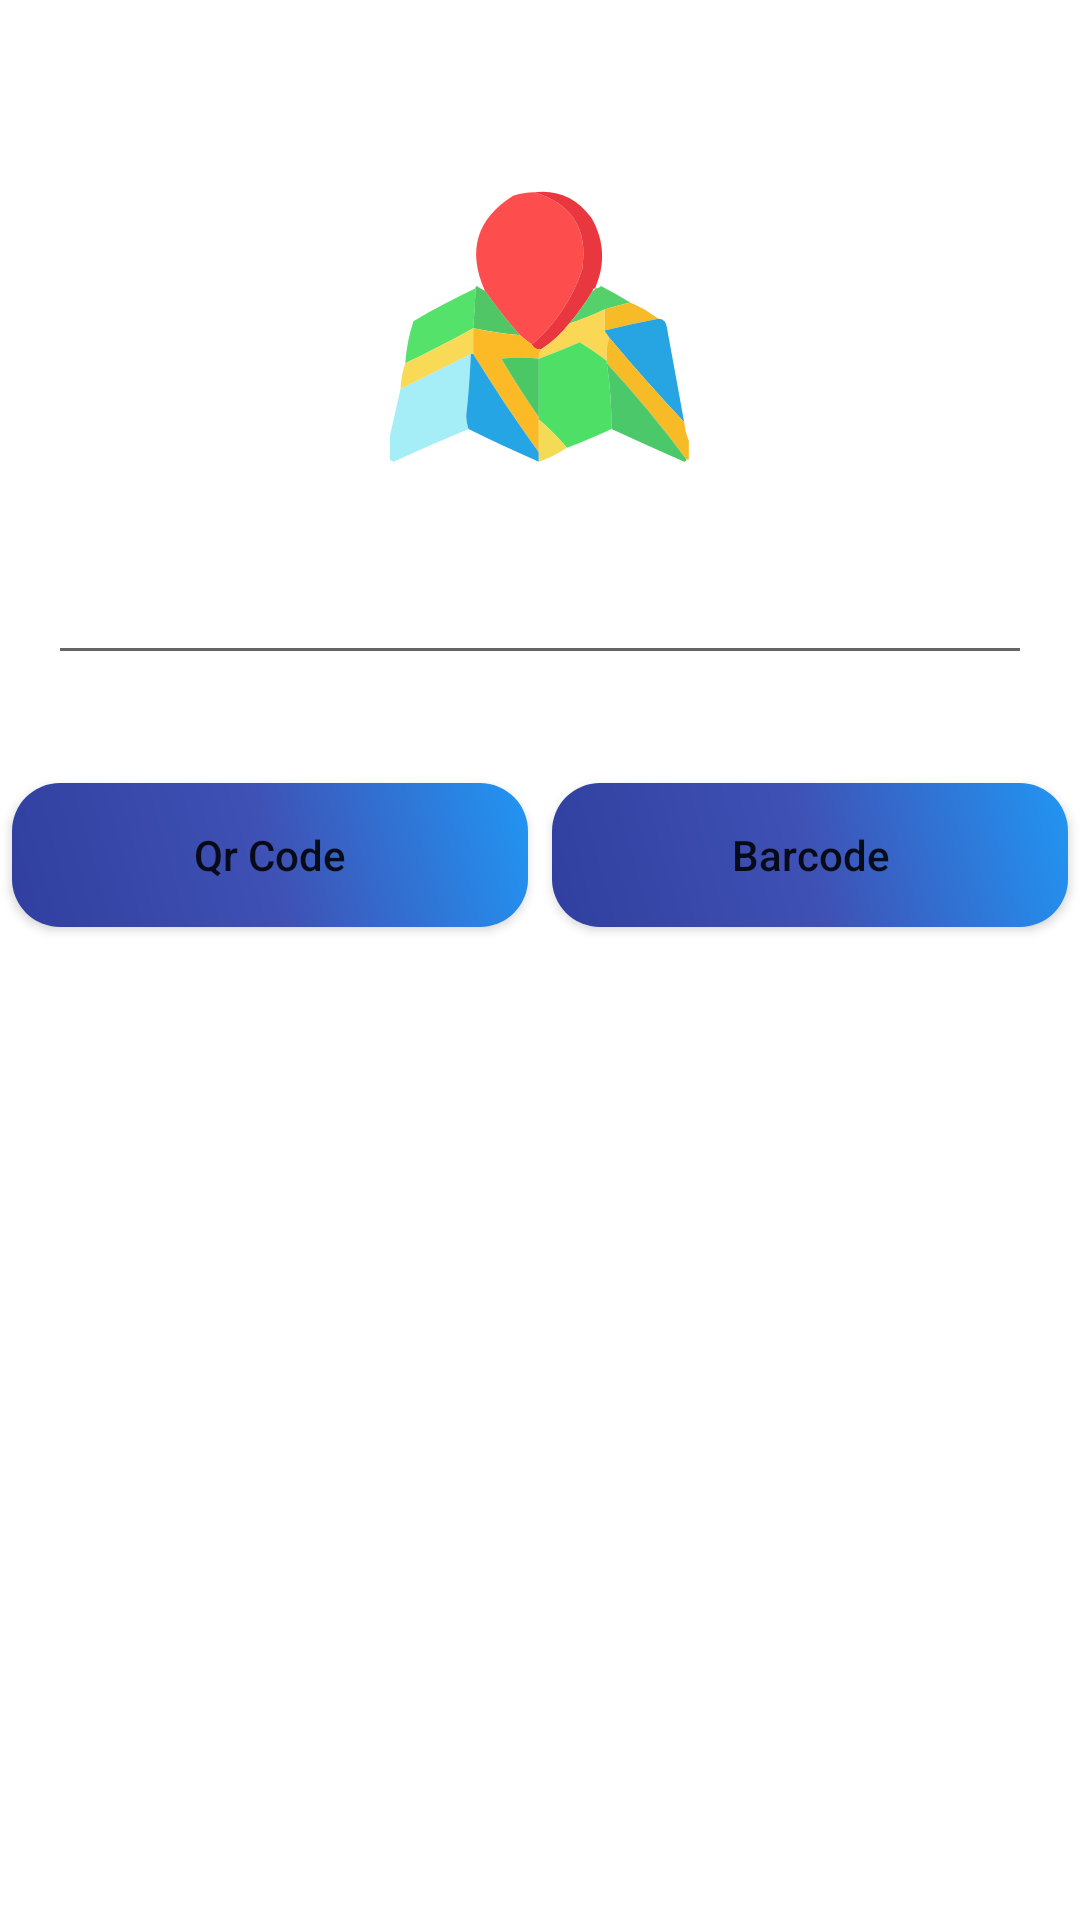

Icons on this 1080 x 1920 Android screen, each with its box as (x1, y1, x2, y2):
map: (390, 191, 689, 462)
